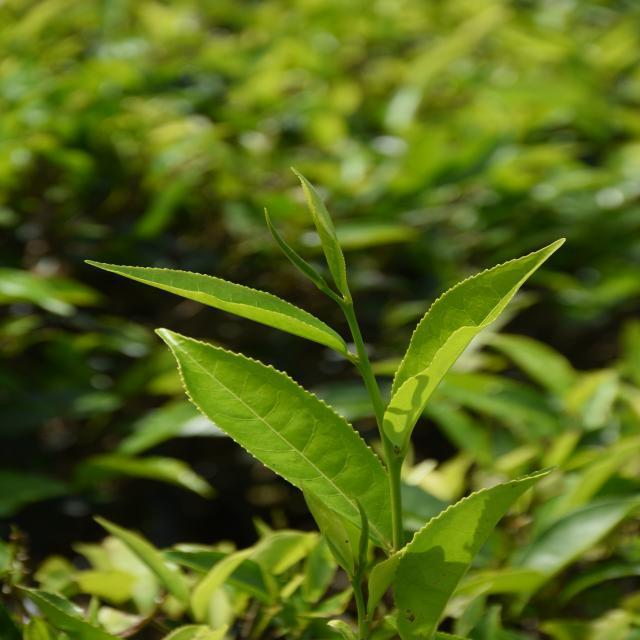Stem: (357, 349, 368, 367)
